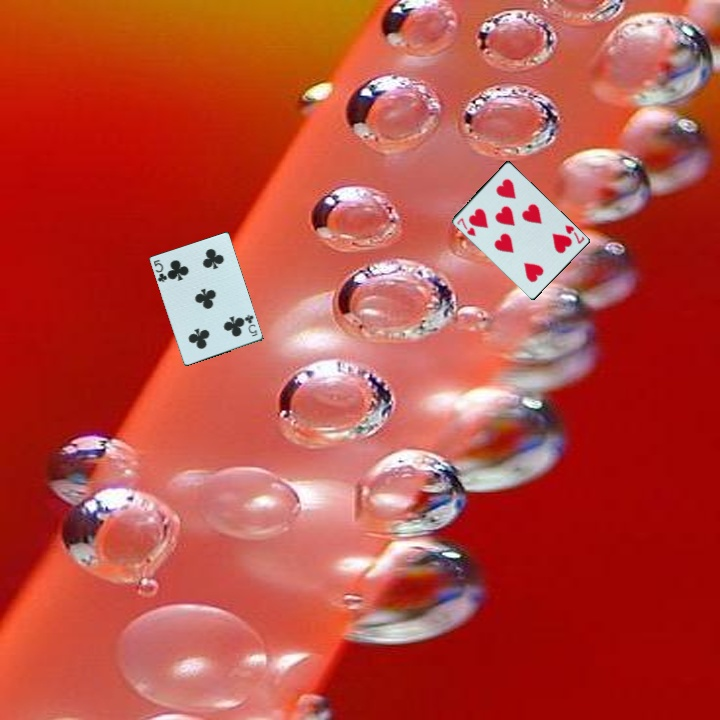5c: (150, 256, 170, 285), (241, 311, 260, 339)
7h: (561, 222, 587, 247), (453, 214, 478, 239)
